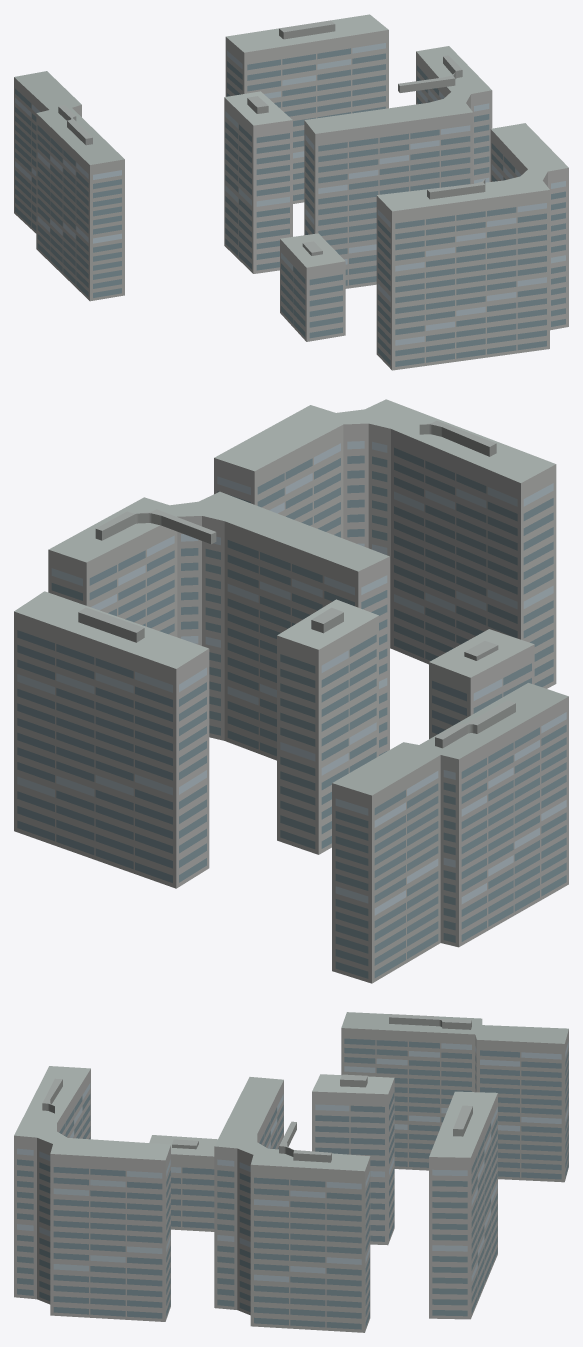
File: apt-a13982002.glb
3 views of the same model, one above another, from view 1: azimuth 30°, elevation 25°; view 2: azimuth 150°, elevation 25°; view 3: azimuth 270°, elevation 25° (orthographic). The views are drawn at different scales.
Parts seen in each view (by area): view 1: apt-a13982002; view 2: apt-a13982002; view 3: apt-a13982002.
Boxes of the visible parts, box(x1,y1,x2,y2) form: apt-a13982002: box(14, 14, 568, 370); apt-a13982002: box(14, 399, 568, 983); apt-a13982002: box(14, 1012, 568, 1332).
Size of the model in its own units: 111 by 47.81 by 142.
